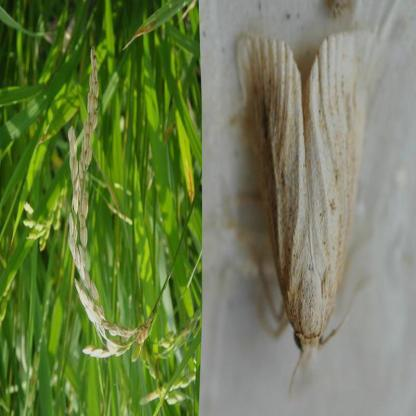stem-borer: (235, 32, 372, 379)
